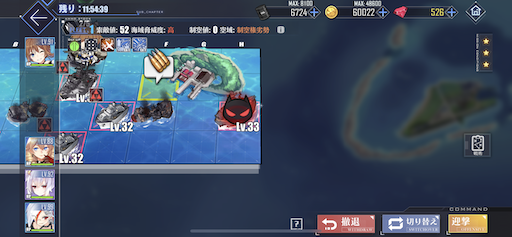lv3: (87, 87, 134, 132), (39, 118, 83, 164), (55, 60, 99, 100)
